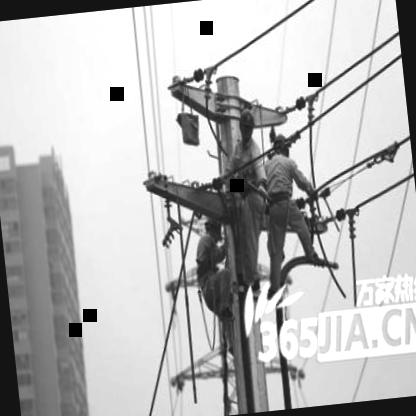helmet: (234, 105, 259, 143), (201, 209, 226, 245), (271, 126, 294, 158)
